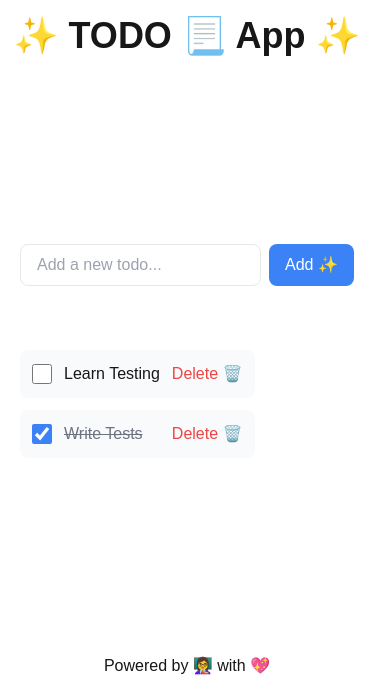
Todo List › should remove an item from the list
Click the button "Delete 🗑️" next to "Learn Testing" at coordinates (207, 374), box [172,362,242,386]
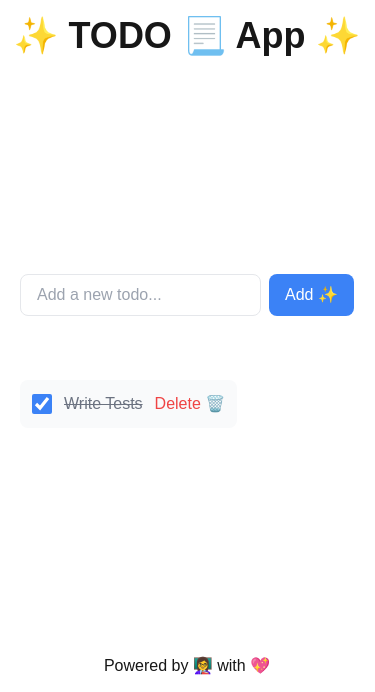
Now the text "Learn Testing" is gone
